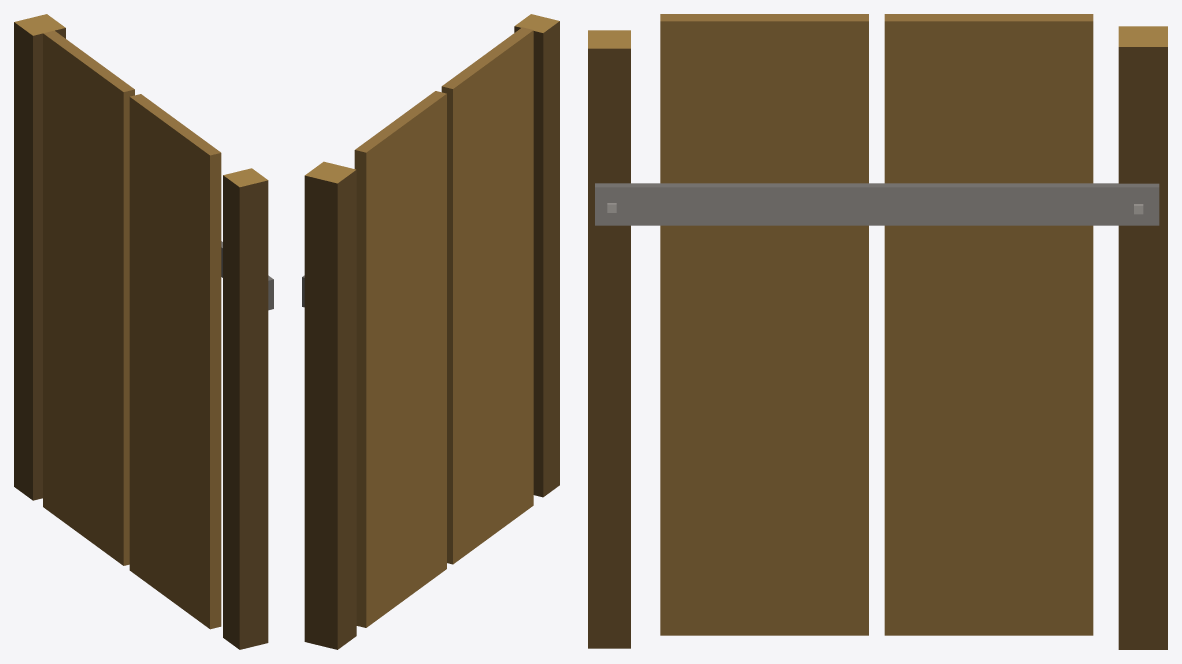
Rendered from FenceWoodL_Plain_01.fbx.
The picture shows the model from 3 angles, left to right: view 1: azimuth 30°, elevation 25°; view 2: azimuth 150°, elevation 25°; view 3: azimuth 270°, elevation 25°; orthographic projection. The views are drawn at different scales.
Parts seen in each view (by area): view 1: FenceWoodL_Plain_01; view 2: FenceWoodL_Plain_01; view 3: FenceWoodL_Plain_01.
Part boxes in pixels (left/top/right/bottom): FenceWoodL_Plain_01: left=14, top=14, right=273, bottom=649; FenceWoodL_Plain_01: left=302, top=14, right=559, bottom=649; FenceWoodL_Plain_01: left=588, top=14, right=1167, bottom=649.
Size of the model in its own units: 0.5555 by 5.15 by 6.03.
